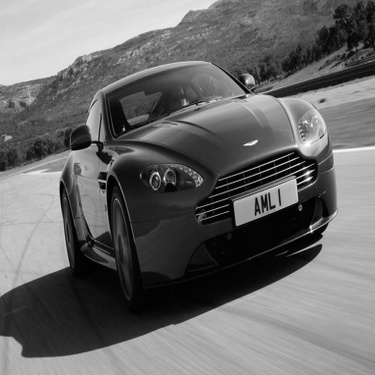car: (47, 53, 342, 301)
